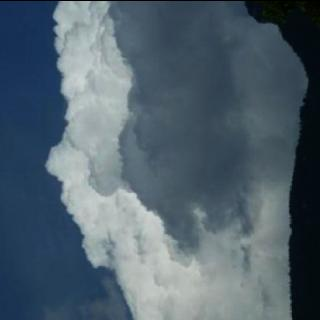Cumulus: (46, 0, 281, 320)
